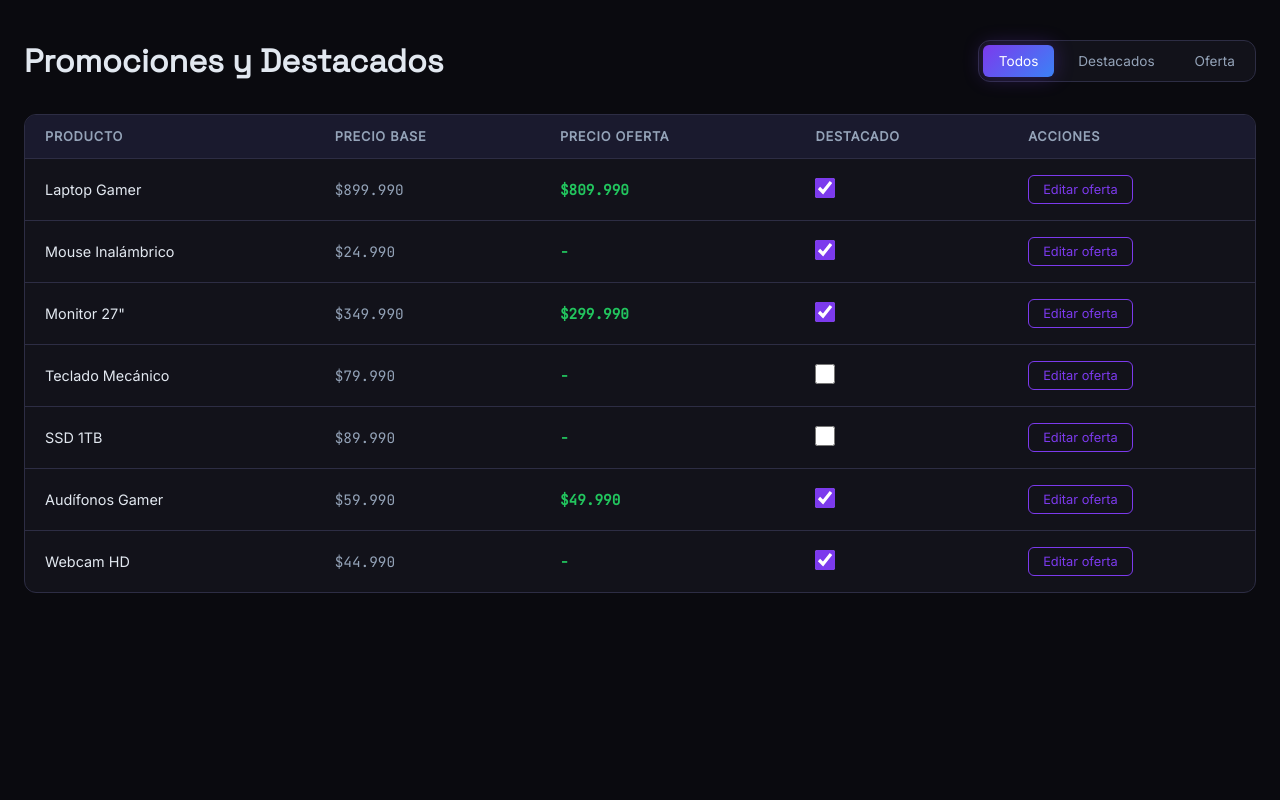
Test: HU-ADMIN-06 · Gestionar Promociones y Productos Destacados › CA2: al abrir modal de oferta muestra precio base y campo precio oferta
The image size is (1280, 800).
Click the button with test id "btn-editar-oferta-1". click: (1080, 190)
box: top-left (1028, 175), bottom-right (1133, 204)
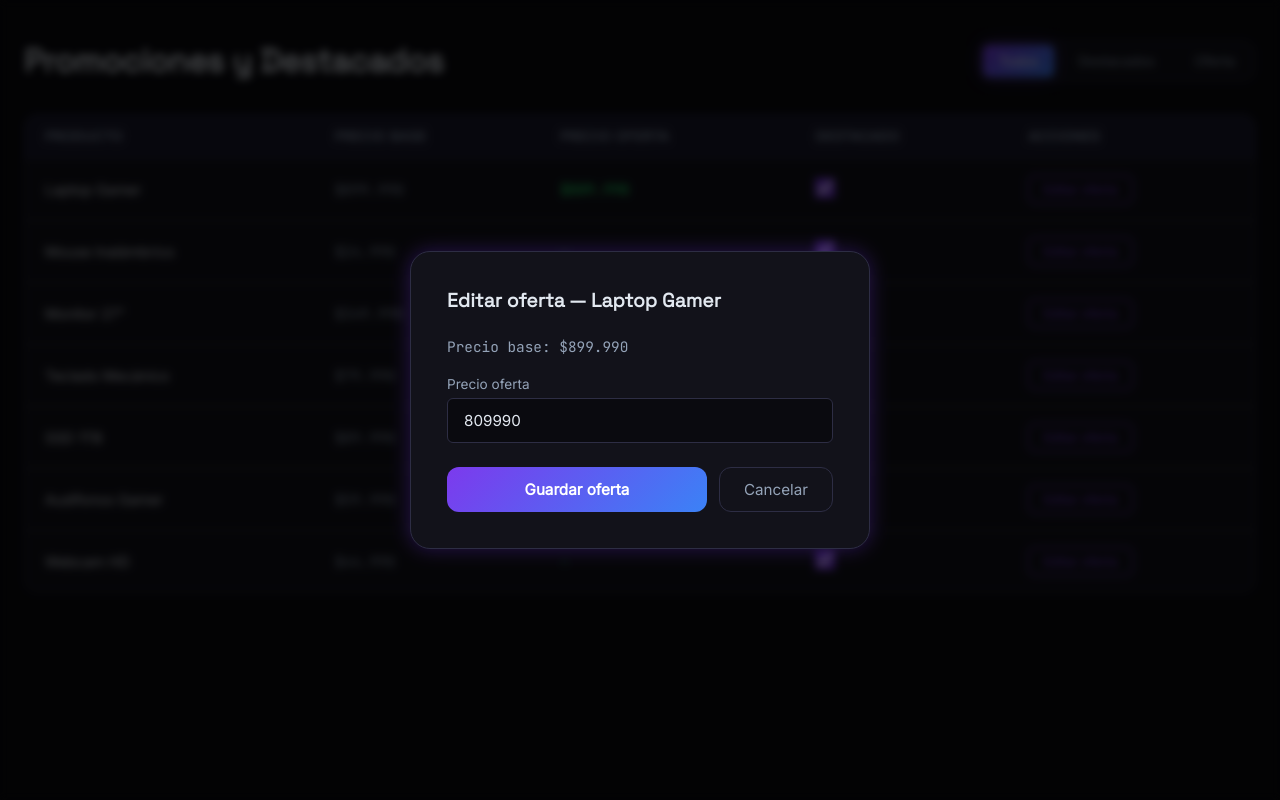
Check: the element with test id "modal-oferta" is shown, box top-left (410, 251), bottom-right (870, 549)
Check: the text "Precio base: $899.990" is shown, box top-left (447, 337), bottom-right (628, 356)
Check: the number field with test id "input-precio-oferta" is shown, box top-left (447, 398), bottom-right (833, 443)
